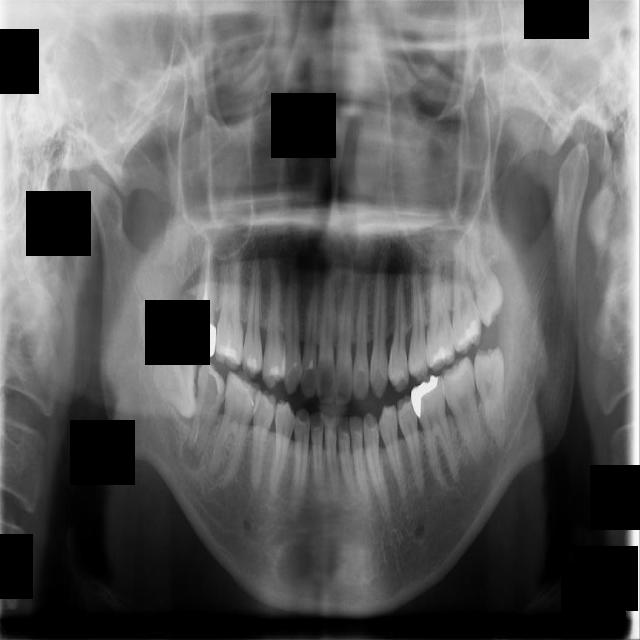52: (404, 373, 459, 427), (213, 317, 247, 371), (260, 333, 290, 390), (425, 323, 456, 372), (453, 307, 481, 354), (188, 315, 216, 357), (281, 344, 303, 395), (242, 330, 263, 379), (300, 353, 318, 399)
73: (191, 244, 216, 327), (624, 566, 634, 588)
BioHorizons Implant: (450, 239, 482, 354)
BioLife Implant: (465, 229, 508, 328)
Biomet 3i Implant: (473, 348, 508, 450)
Blue Sky Bio Implant: (439, 356, 487, 466)
Caries: (189, 245, 217, 357)
Implant: (187, 359, 230, 463)
Keystone Dental Implant: (154, 354, 198, 420)
